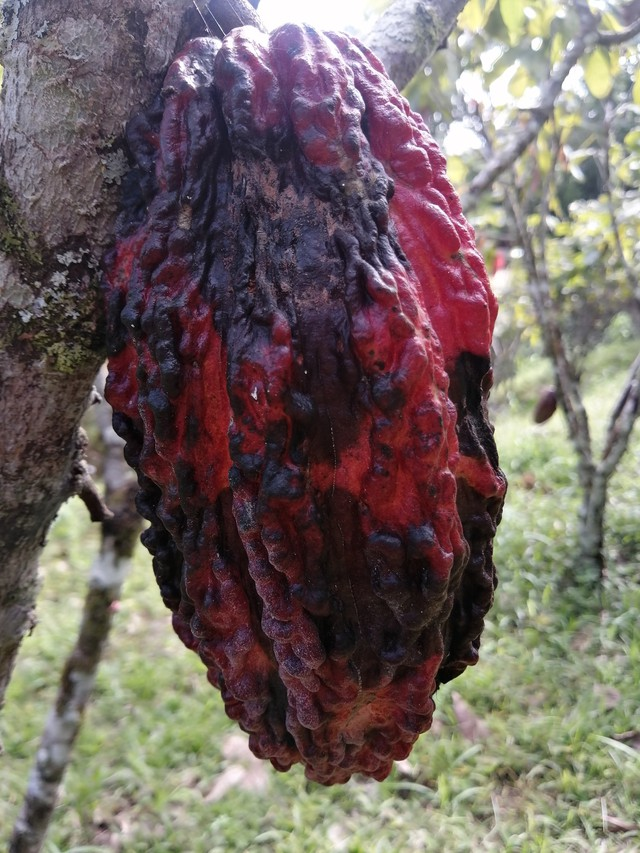phytophthora palmivora: (85, 7, 521, 797)
